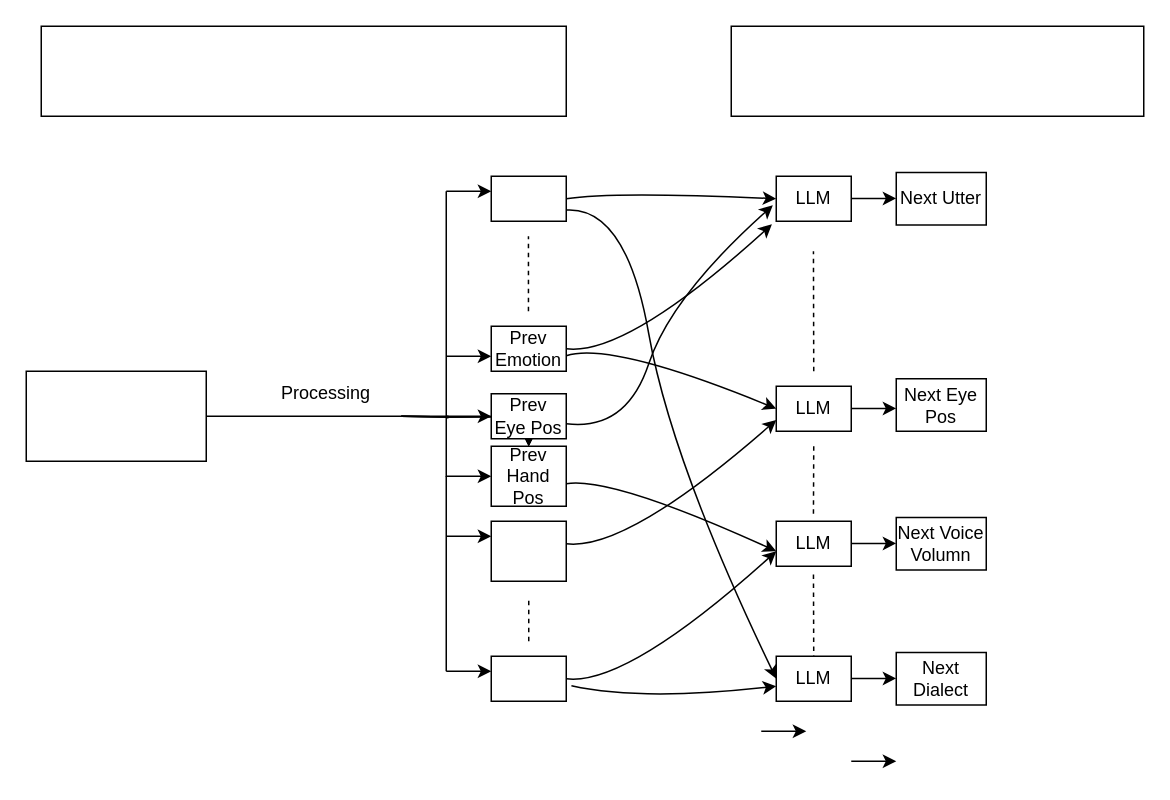
The diagram is 1170 pixels wide and 800 high, and some of its shapes have lost their labels. Each missing label, with the centre of its shape:
"Dialect" belongs at [528,678].
"InputData" belongs at [115,415].
"Next Speaker" belongs at [937,70].
"Prev Speaker" belongs at [303,70].
"Prev Utter" belongs at [528,198].
"Prev Voice Volumn" belongs at [528,550].
